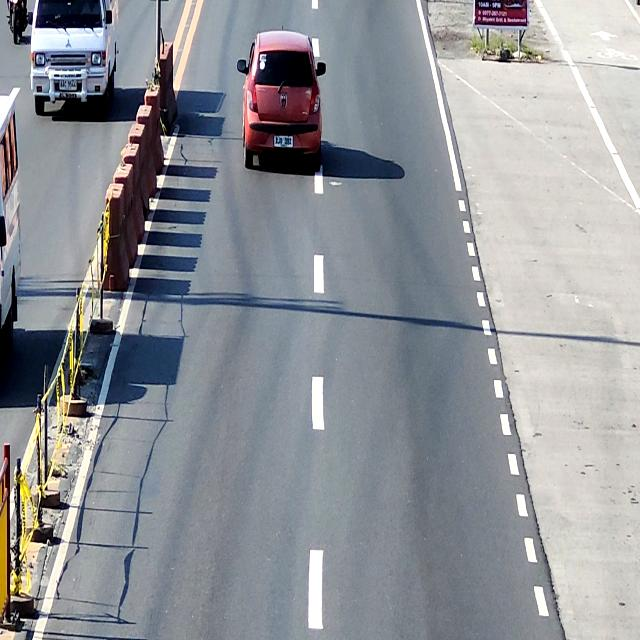Car: (237, 28, 327, 175), (28, 0, 118, 117), (0, 85, 22, 365)
License-Plate: (274, 136, 293, 149), (59, 80, 77, 90)
Motorcycle: (7, 0, 28, 45)
